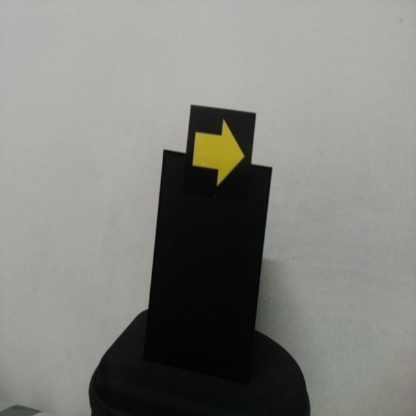id_3: (190, 108, 254, 201)
